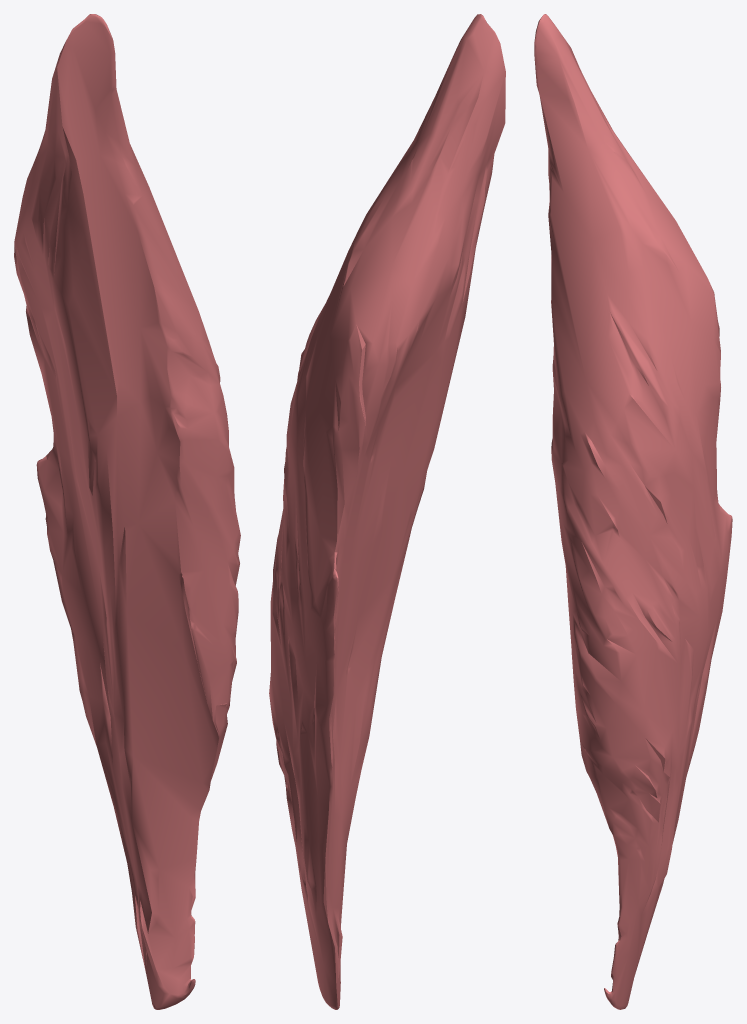
3 renders of one model, left to right at view 1: azimuth 30°, elevation 25°; view 2: azimuth 150°, elevation 25°; view 3: azimuth 270°, elevation 25°, orthographic. The views are drawn at different scales.
Parts seen in each view (by area): view 1: FJ1477M; view 2: FJ1477M; view 3: FJ1477M.
Part boxes in pixels (x1,y1,x2,y2): FJ1477M: [14, 14, 240, 1009]; FJ1477M: [269, 14, 505, 1009]; FJ1477M: [534, 14, 732, 1009].
Size of the model in its own units: 0.0533 by 0.2548 by 0.0485.
